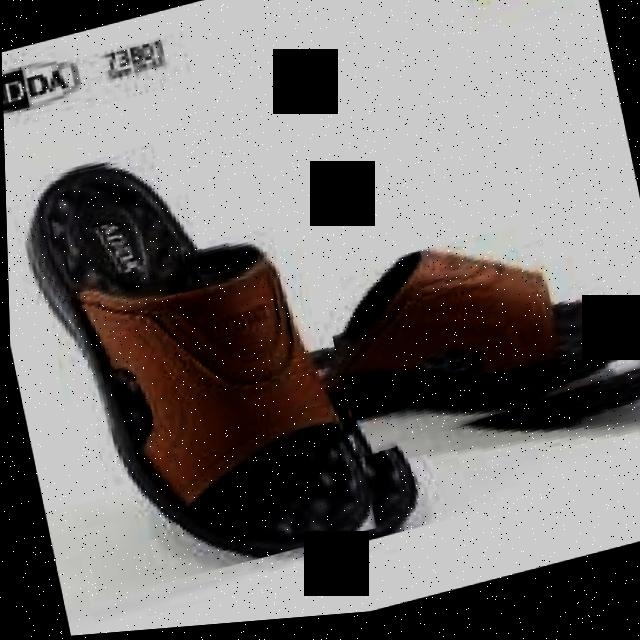shoe: (8, 43, 640, 615), (10, 110, 392, 606), (316, 208, 640, 467)
